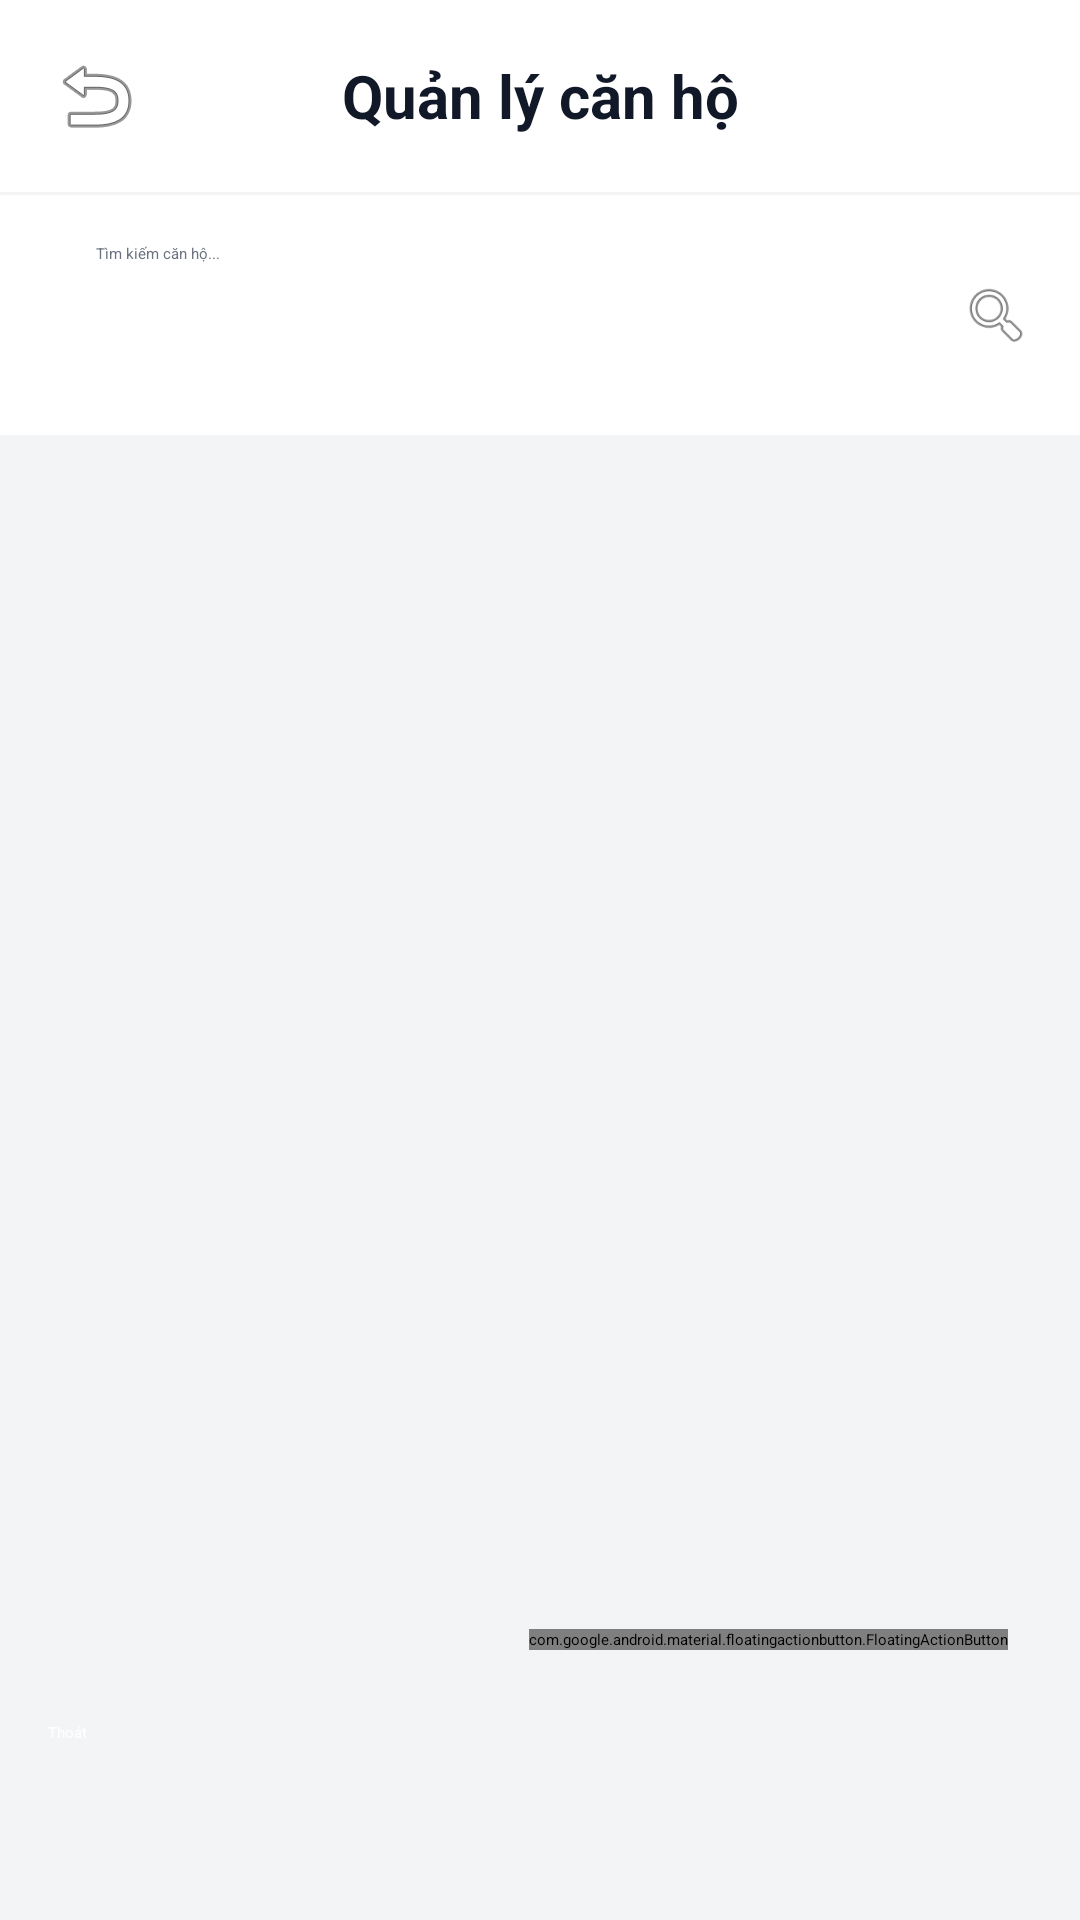

Named icons in this screenshot (1080 × 1920) and their bounding boxes, bbox=(x1, y1, x2, y2):
revert: bbox=(63, 65, 132, 128)
search: bbox=(969, 289, 1023, 342)
